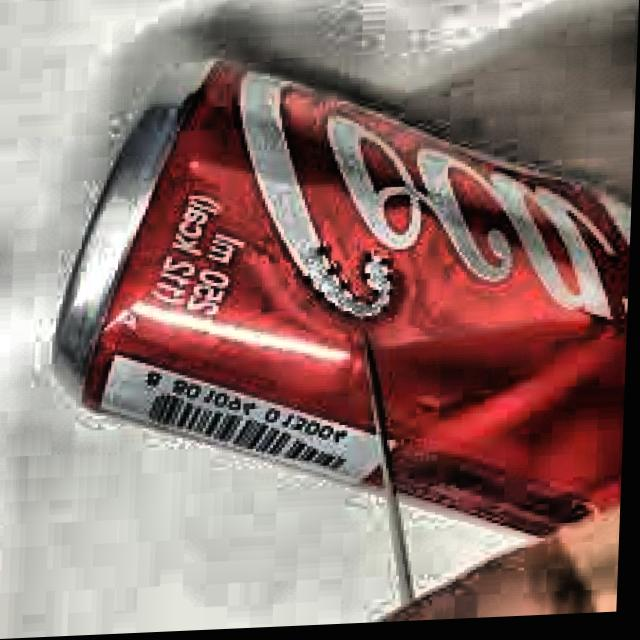can: (31, 37, 638, 582)
